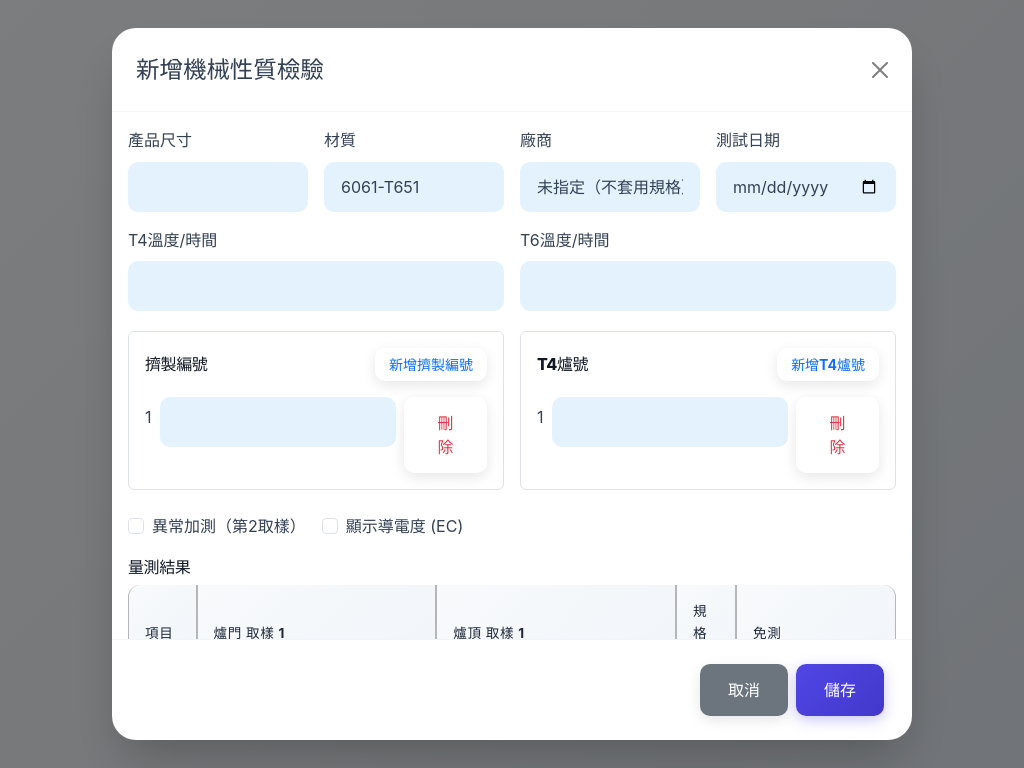
Scenario: MechanicalTestForm › 重複送出後刪除重複列會立即清除重複提示
The width and height of the screenshot is (1024, 768).
Type "36x25.2" into the field labelled "產品尺寸". click: (218, 187)
box: [128,162,308,212]
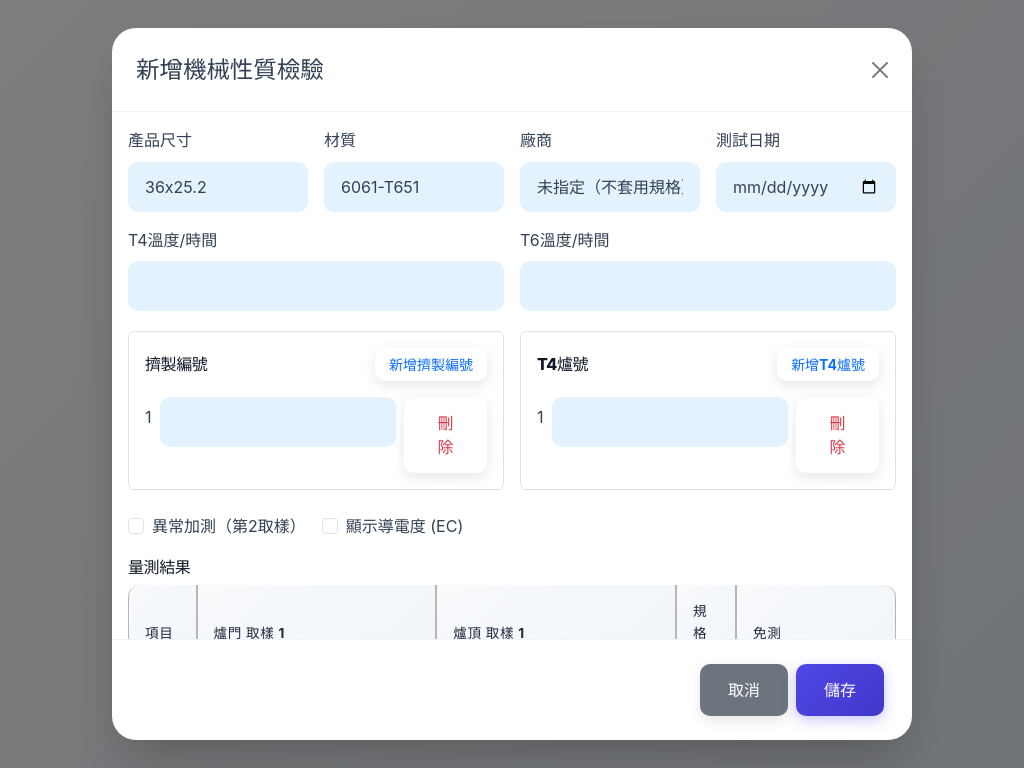
Click the button "新增擠製編號". click: (431, 365)
box: [375,348,487,381]
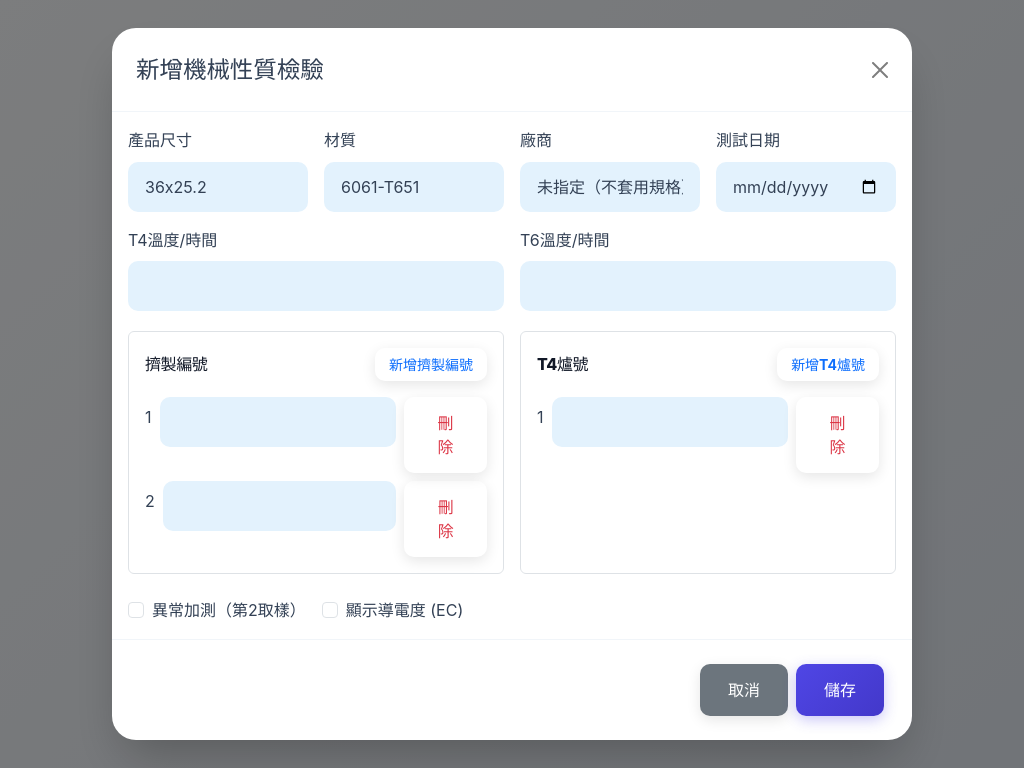
Type "E001" into the 1st field named "擠製編號 1". click: (278, 422)
box: [160,397,396,447]
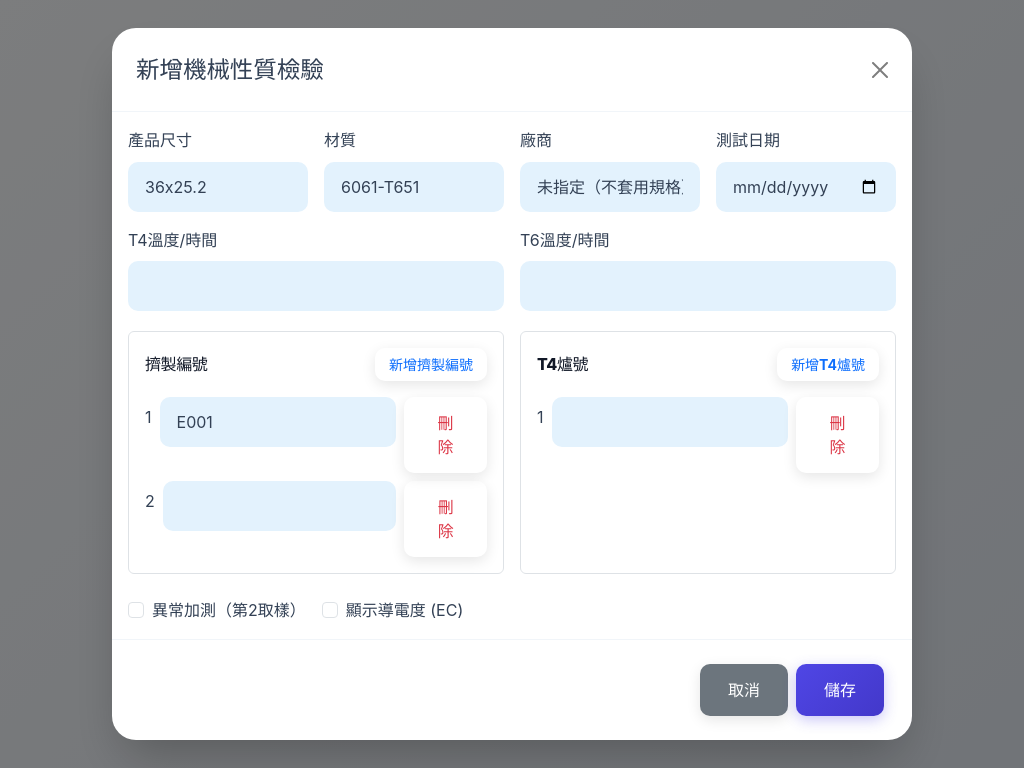
Type " E001 " into the 3rd field named "擠製編號 2". click: (280, 506)
box: [163,481,396,531]
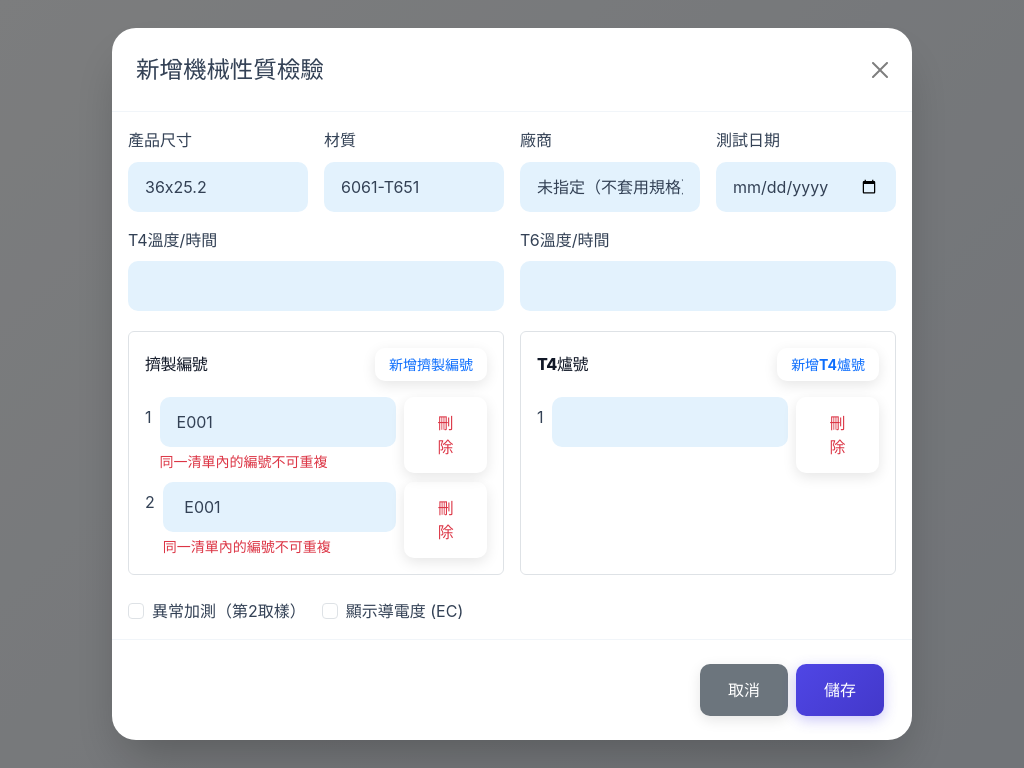
Click the button "儲存". click: (840, 690)
box: [796,664,884,716]
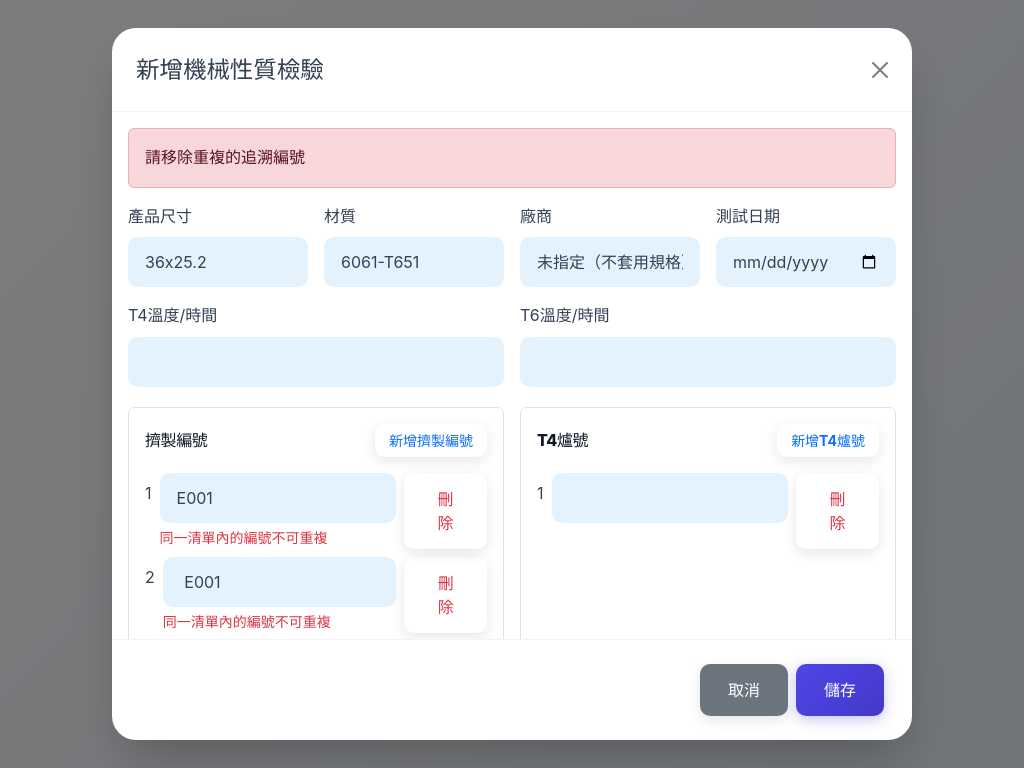
Result: the text "請移除重複的追溯編號" is shown at [128,128,896,188]
Click the button with aria-label "刪除擠製編號 2". click: (446, 595)
box: [404,557,487,633]
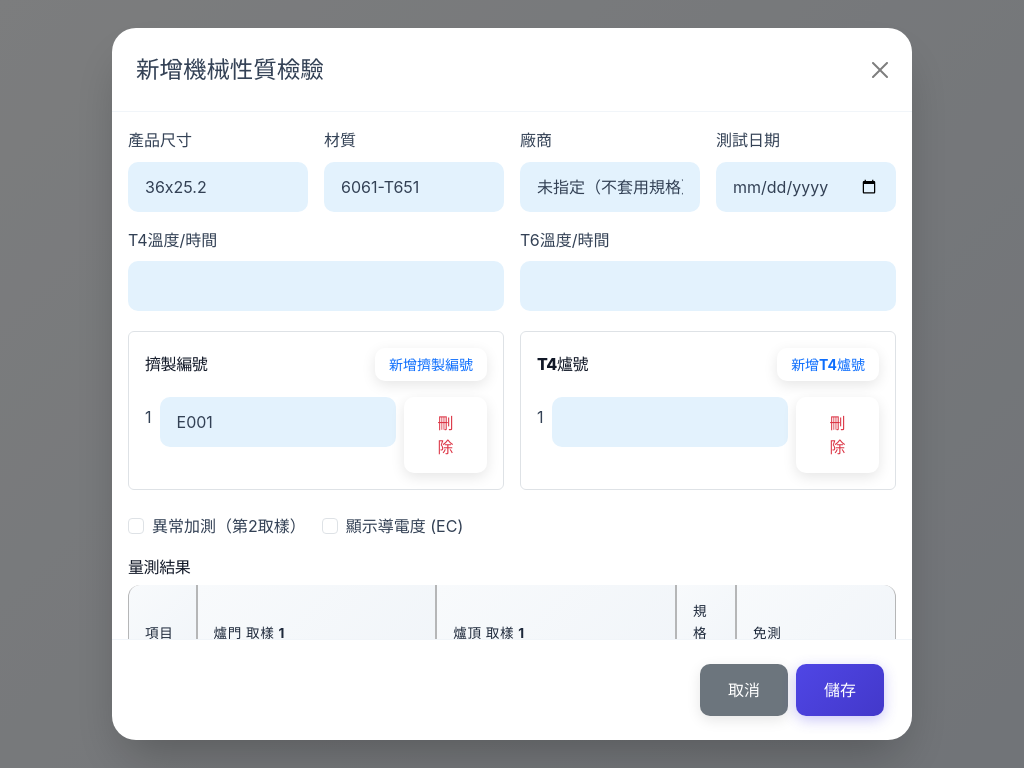
Result: the text "請移除重複的追溯編號" is gone
